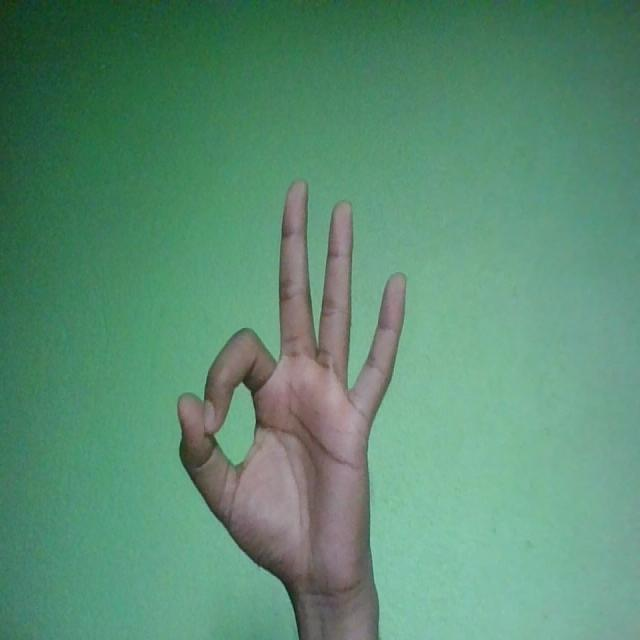Rock On: (178, 178, 408, 610)
